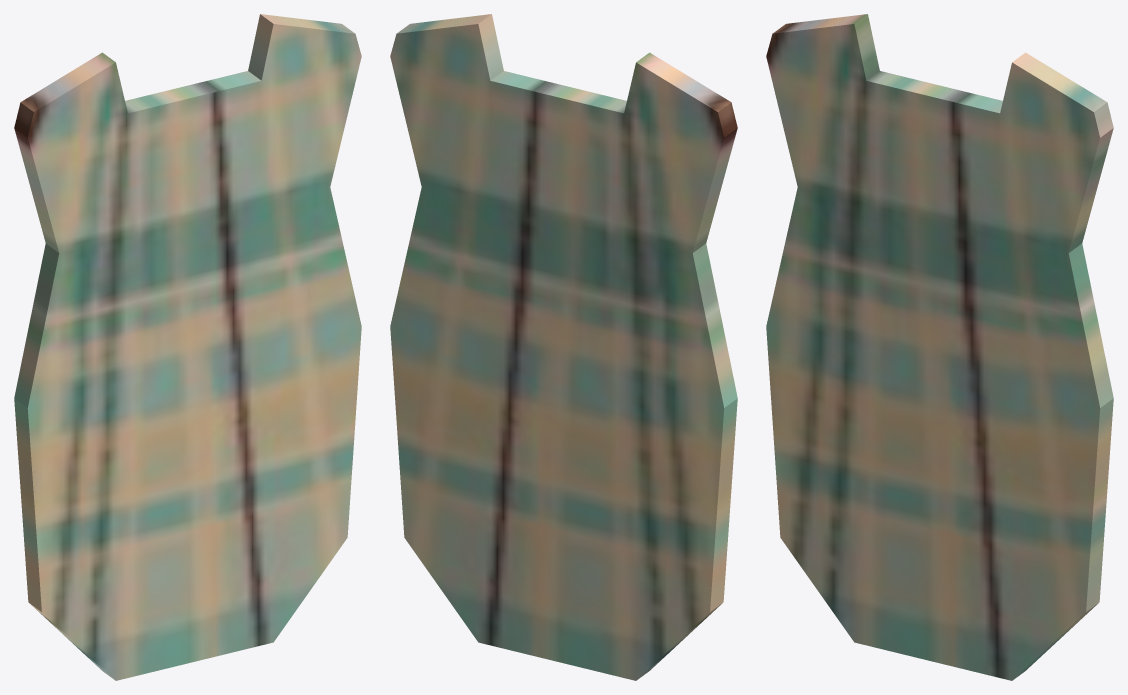
File: cloth2.fbx
The picture shows the model from 3 angles, left to right: view 1: azimuth 30°, elevation 25°; view 2: azimuth 150°, elevation 25°; view 3: azimuth 330°, elevation 25°; orthographic projection.
Parts seen in each view (by area): view 1: Plane.049; view 2: Plane.049; view 3: Plane.049.
Boxes of the visible parts, bbox=[...] form: Plane.049: bbox=[14, 14, 361, 680]; Plane.049: bbox=[390, 14, 737, 680]; Plane.049: bbox=[766, 14, 1113, 680].
Bounding box in the file's own units: 19.88 × 35.18 × 1.4.
1 material, 1 textured.
